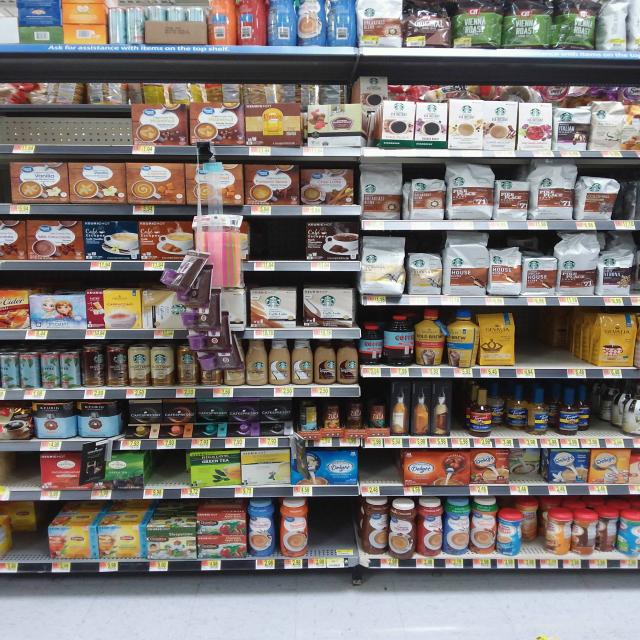unorganised: (491, 386, 556, 435), (143, 288, 185, 331), (389, 499, 416, 560), (237, 1, 268, 45), (209, 1, 238, 46), (268, 2, 297, 45), (328, 1, 355, 46), (572, 511, 599, 556), (546, 510, 574, 553), (510, 448, 543, 479), (79, 345, 103, 387), (598, 512, 617, 552), (520, 502, 540, 539), (17, 353, 38, 388), (578, 391, 592, 430)
